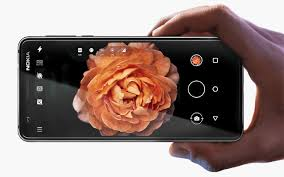nokia: (15, 34, 247, 144)
